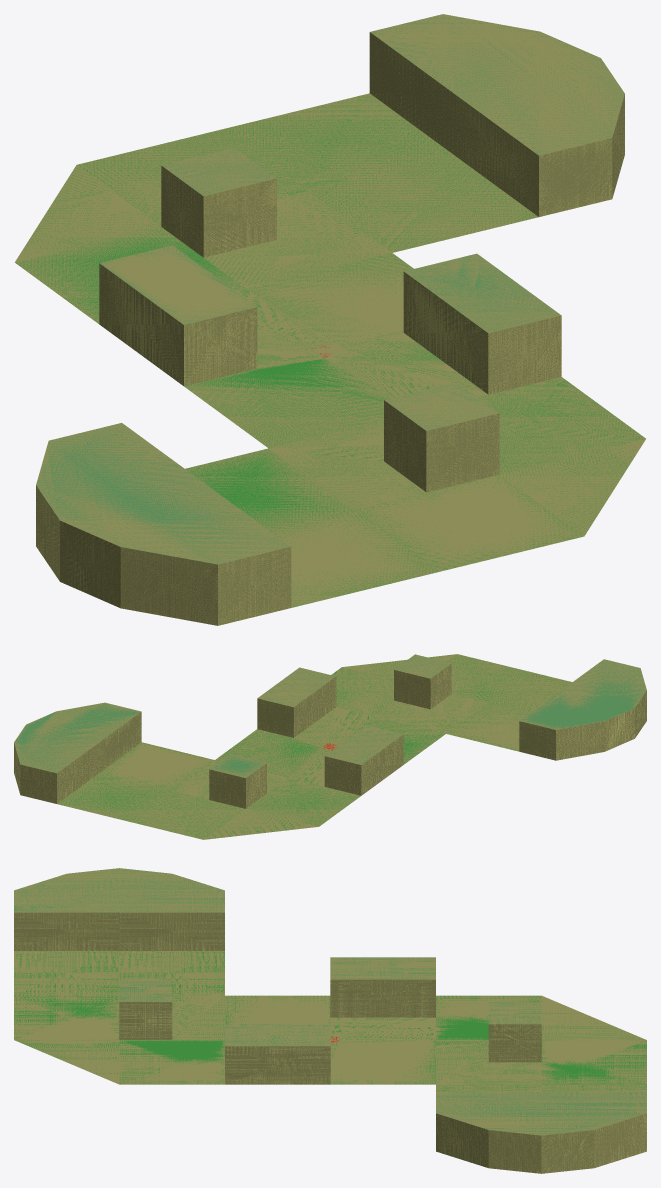
Rendered from ForestWorldFBX.fbx.
3 renders of one model, top to bottom at view 1: azimuth 30°, elevation 25°; view 2: azimuth 150°, elevation 25°; view 3: azimuth 270°, elevation 25°, orthographic. The views are drawn at different scales.
Visible parts, largest first — view 1: Model; view 2: Model; view 3: Model.
Boxes of the visible parts, <box> form: Model: <box>15,14,645,625</box>; Model: <box>14,654,646,839</box>; Model: <box>14,868,646,1173</box>.
Bounding box in the file's own units: 0.75 × 0.05 × 0.75.
